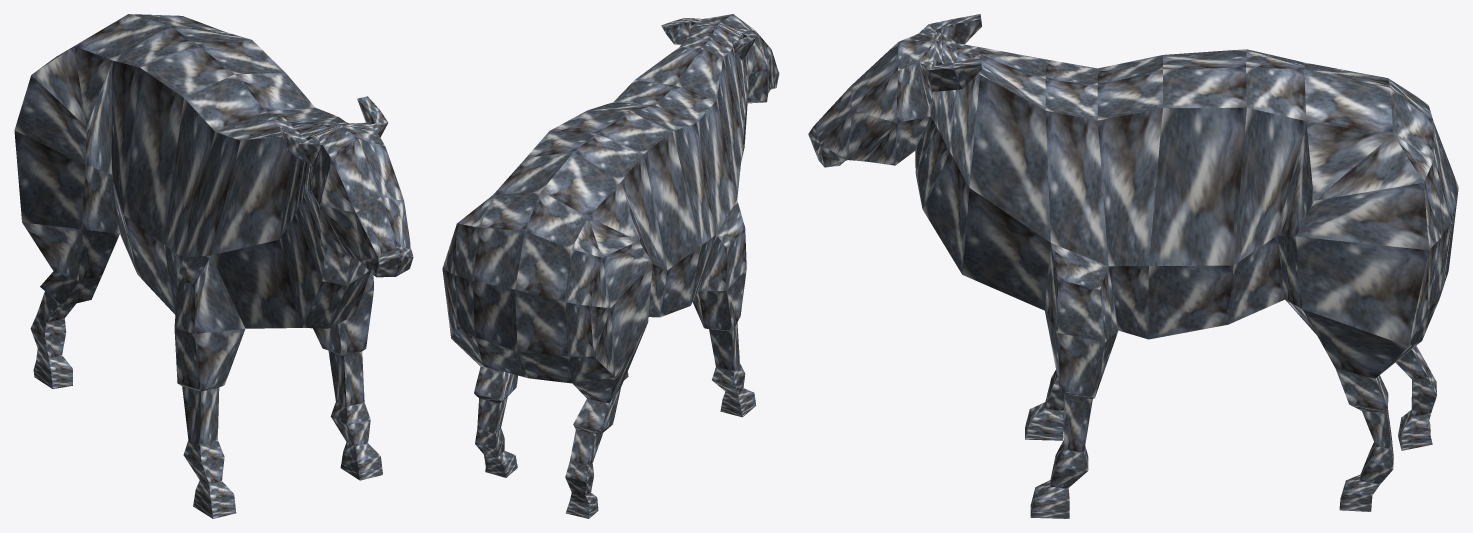
Rendered from SheepIdle_000038.obj.
3 renders of one model, left to right at view 1: azimuth 30°, elevation 25°; view 2: azimuth 150°, elevation 25°; view 3: azimuth 270°, elevation 25°, orthographic. The views are drawn at different scales.
Visible parts, largest first — view 1: Sheep_Cylinder; view 2: Sheep_Cylinder; view 3: Sheep_Cylinder.
Part boxes in pixels (x1=…): Sheep_Cylinder: x1=14, y1=14, x2=413, y2=518; Sheep_Cylinder: x1=442, y1=14, x2=779, y2=518; Sheep_Cylinder: x1=808, y1=14, x2=1458, y2=518.
Size of the model in its own units: 2.22 by 4.41 by 5.92.
